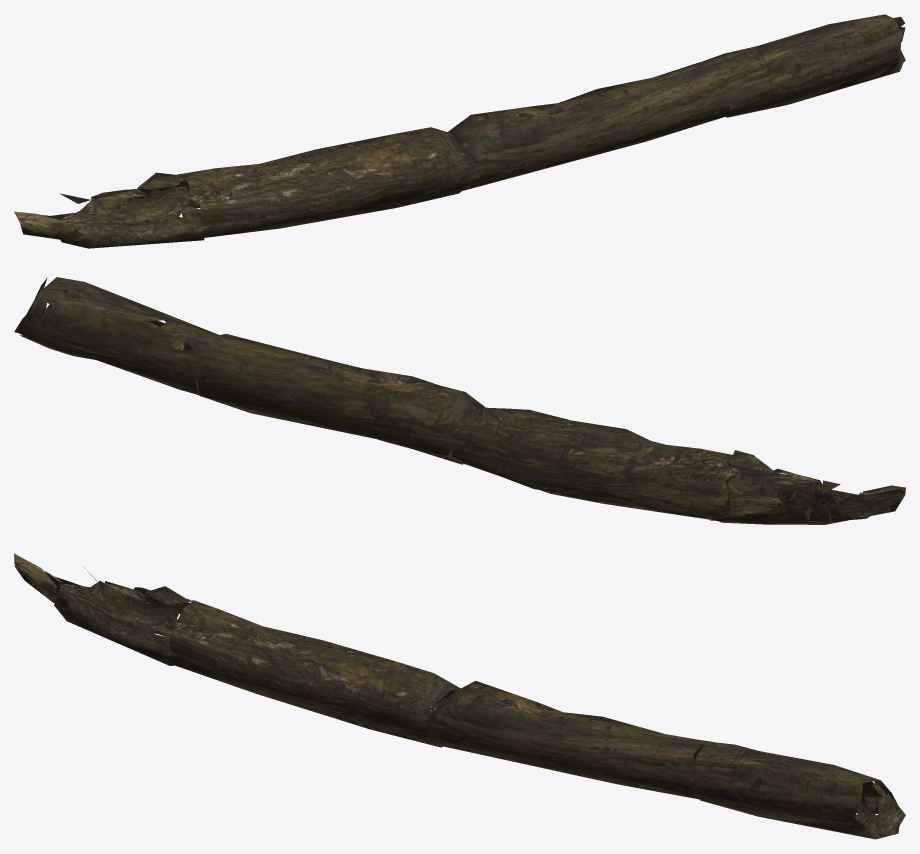
Rendered from log.glb.
The picture shows the model from 3 angles, top to bottom: view 1: azimuth 30°, elevation 25°; view 2: azimuth 150°, elevation 25°; view 3: azimuth 330°, elevation 25°; orthographic projection.
Parts seen in each view (by area): view 1: dead_tree_trunk; view 2: dead_tree_trunk; view 3: dead_tree_trunk.
Part boxes in pixels (box(x1,y1,x2,y2)): dead_tree_trunk: box(14, 14, 905, 248); dead_tree_trunk: box(14, 277, 905, 524); dead_tree_trunk: box(14, 553, 905, 839).
Bounding box in the file's own units: 2.59 × 0.232 × 0.2345.
Materials: 1 (1 with a texture image).
